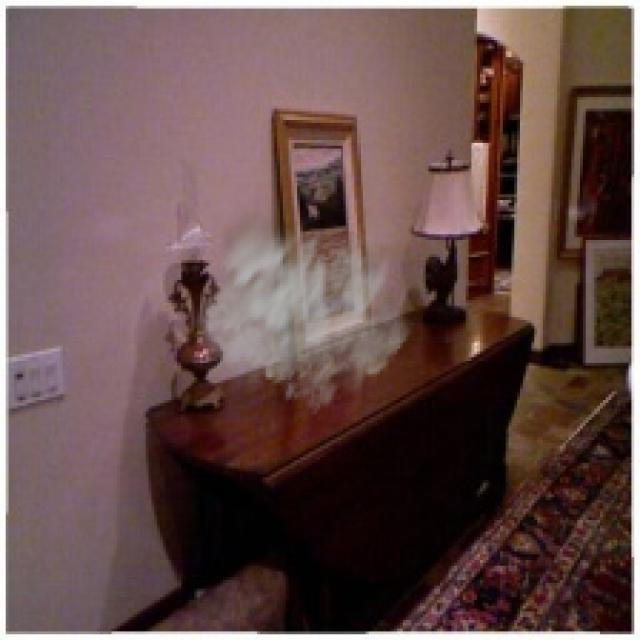Smoke: (183, 188, 423, 418)
